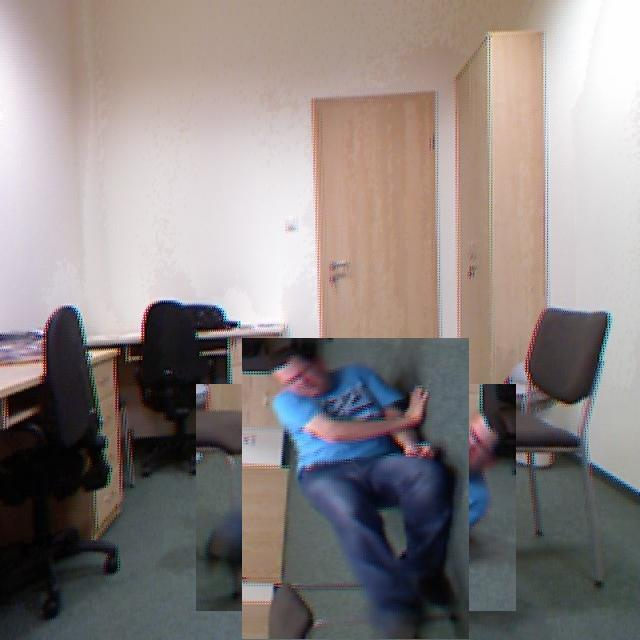Fall: (234, 374, 483, 640)
